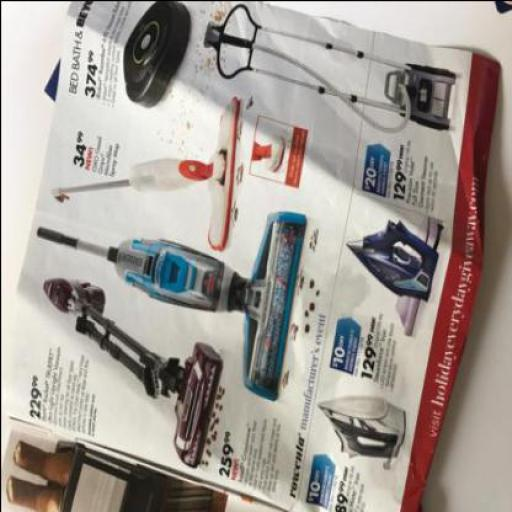paper: (2, 1, 500, 511)
